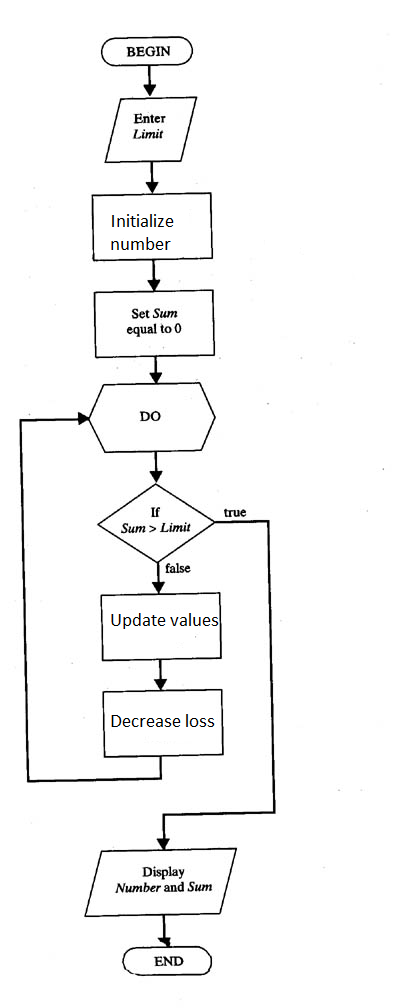arrow: (13, 410, 173, 783), (150, 516, 282, 851), (143, 255, 167, 293), (142, 155, 163, 196), (150, 652, 170, 694), (154, 915, 177, 945), (148, 445, 167, 481), (151, 557, 168, 597), (139, 63, 160, 94), (147, 350, 165, 385)
data: (77, 845, 240, 917), (99, 95, 210, 165)
decision: (91, 482, 219, 561)
process: (77, 380, 217, 457), (96, 685, 231, 762), (83, 188, 219, 264), (93, 589, 228, 663), (91, 288, 222, 363)
terminator: (119, 942, 216, 983), (97, 29, 197, 67)
text: (105, 209, 182, 256), (111, 866, 216, 897), (114, 504, 194, 538), (122, 302, 185, 341), (108, 711, 214, 733), (105, 608, 219, 627), (130, 108, 170, 142), (122, 39, 176, 61), (134, 402, 170, 425), (163, 557, 196, 578), (220, 506, 251, 526), (151, 952, 185, 970)
